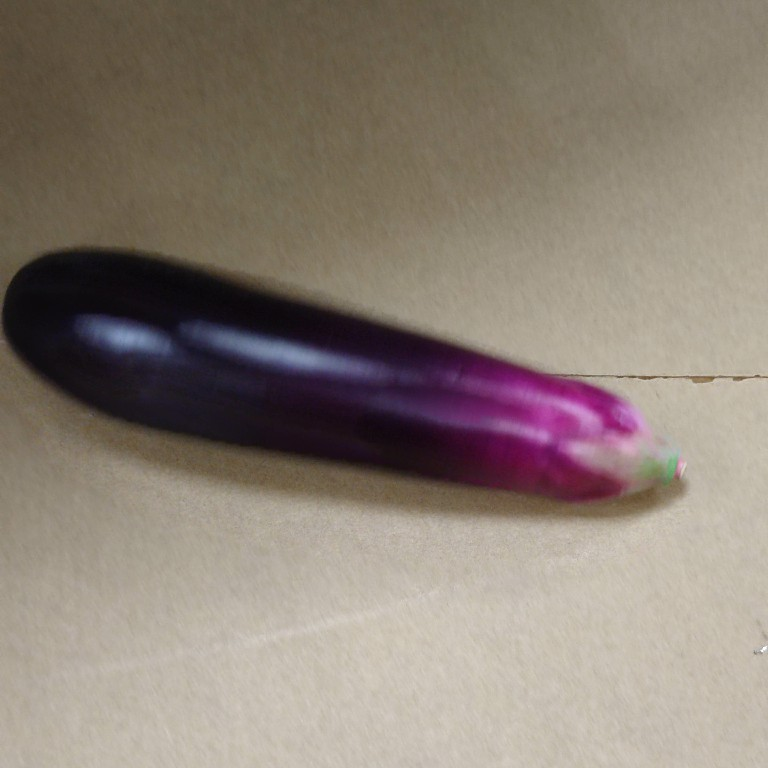fruit_eggplant: (1, 238, 694, 505)
